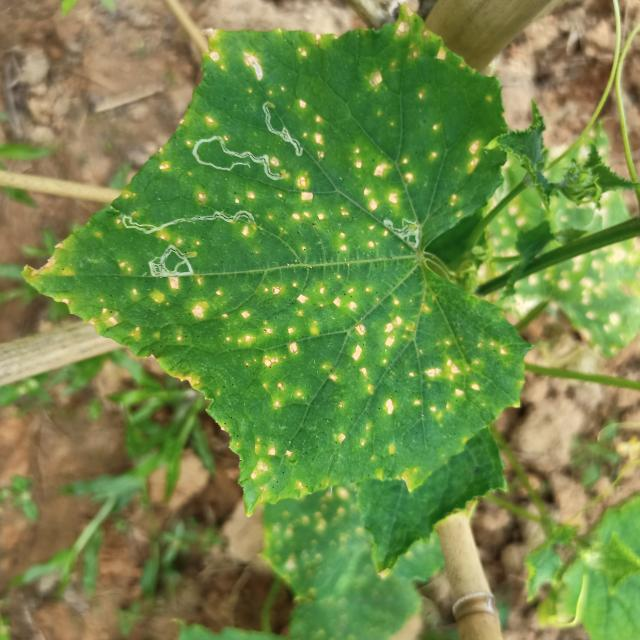disease_cucumber: (57, 270, 516, 478), (113, 34, 474, 278)
